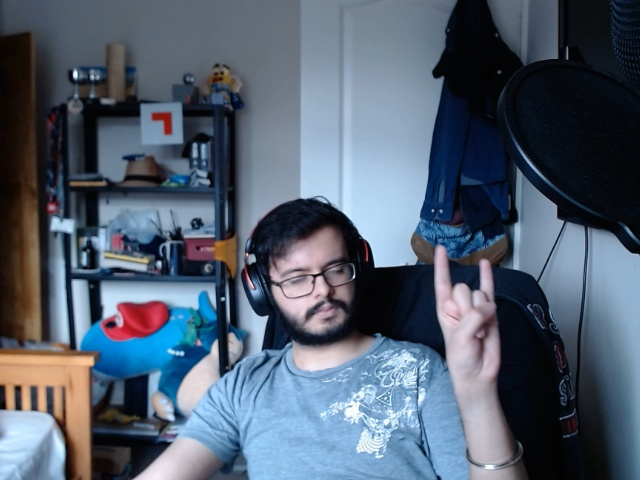Rock on: (428, 234, 507, 382)
